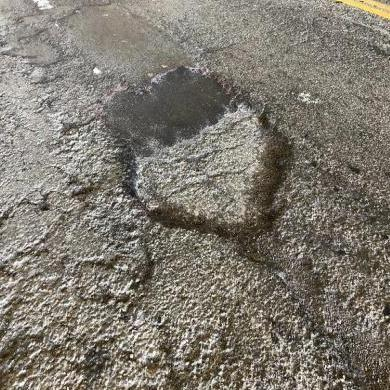pothole: (114, 73, 285, 235)
